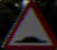Speed Breaker ahead: (8, 2, 46, 45)
